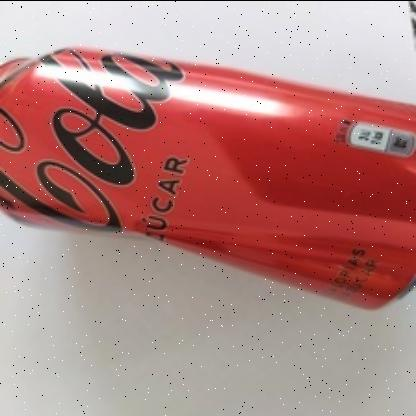Can: (0, 47, 416, 306)
